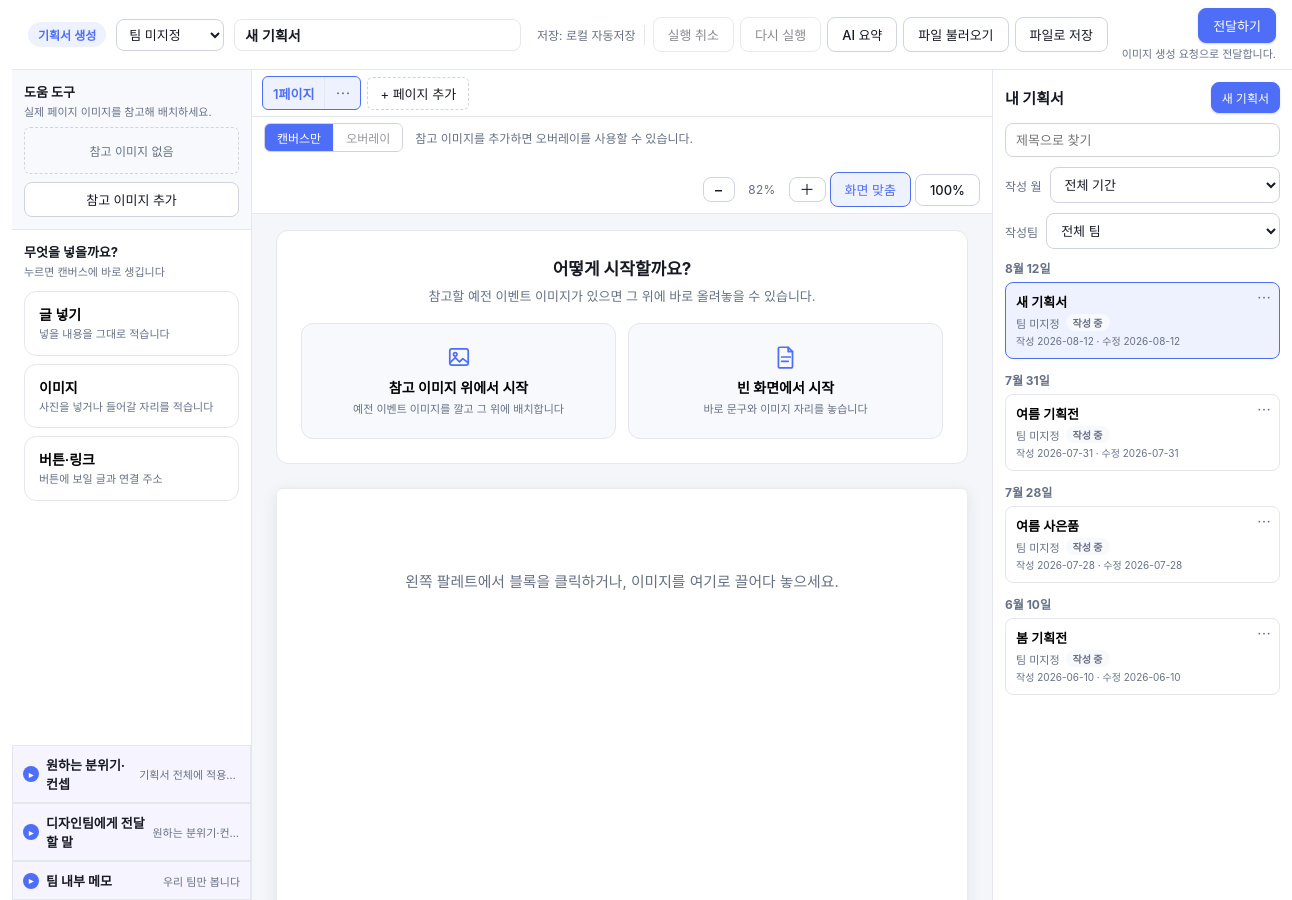
Scenario: §6 작성 월로 찾기 › narrows by month and title together, and says so when nothing matches
Check: the text "여름 기획전" is shown, box [1016, 404, 1079, 423]
Check: the heading "7월 31일" is shown, box [1005, 373, 1050, 388]
Select "2026년 7월" in the dropdown labelled "작성 월" at (1165, 185), box [1050, 167, 1280, 203]
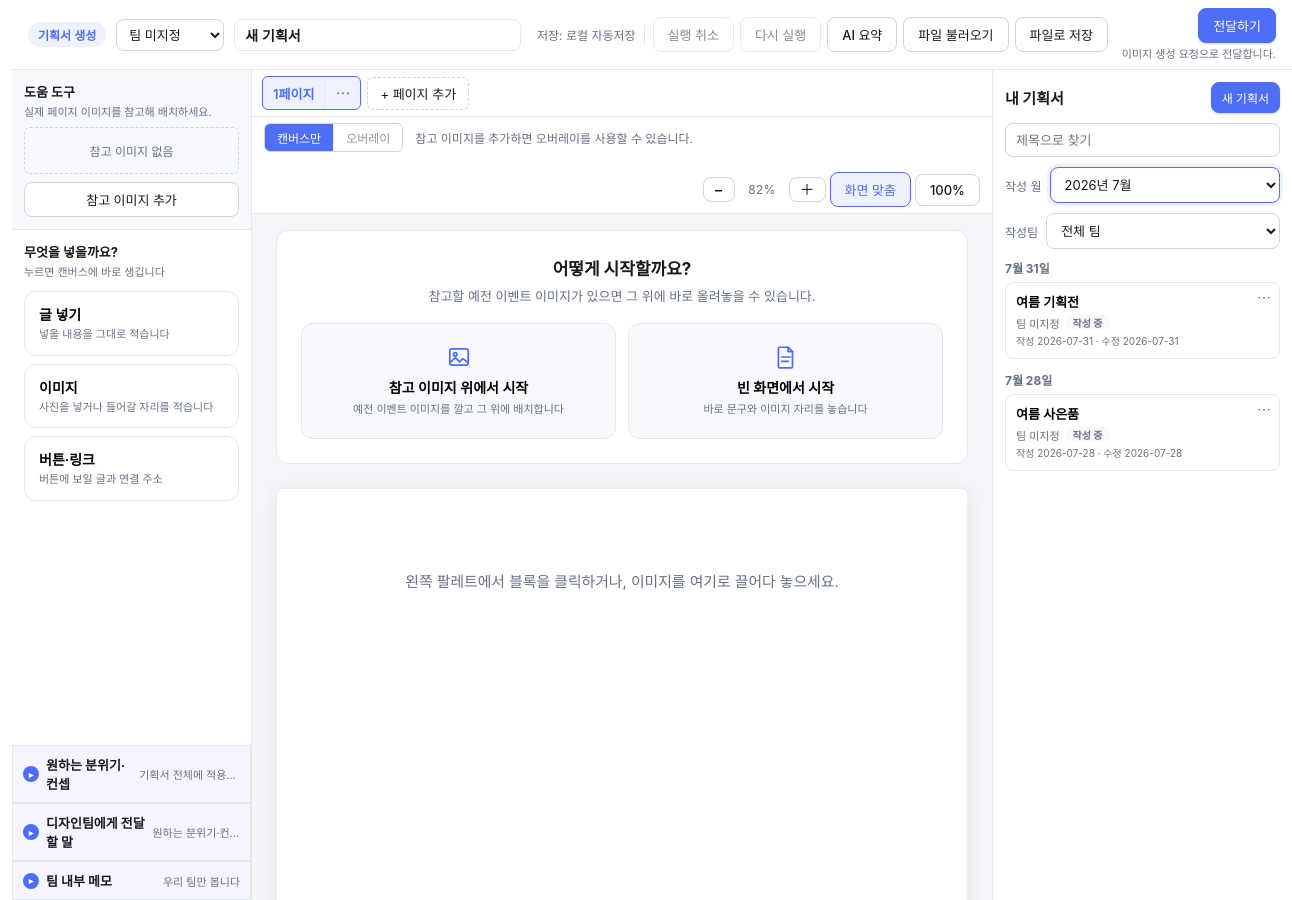
Check: the text "여름 기획전" is shown, box [1016, 292, 1079, 311]
Check: the button "봄 기획전" is gone
Type "사은품" into the search field named "기획서 제목 검색" at (1142, 140), box [1005, 123, 1280, 157]
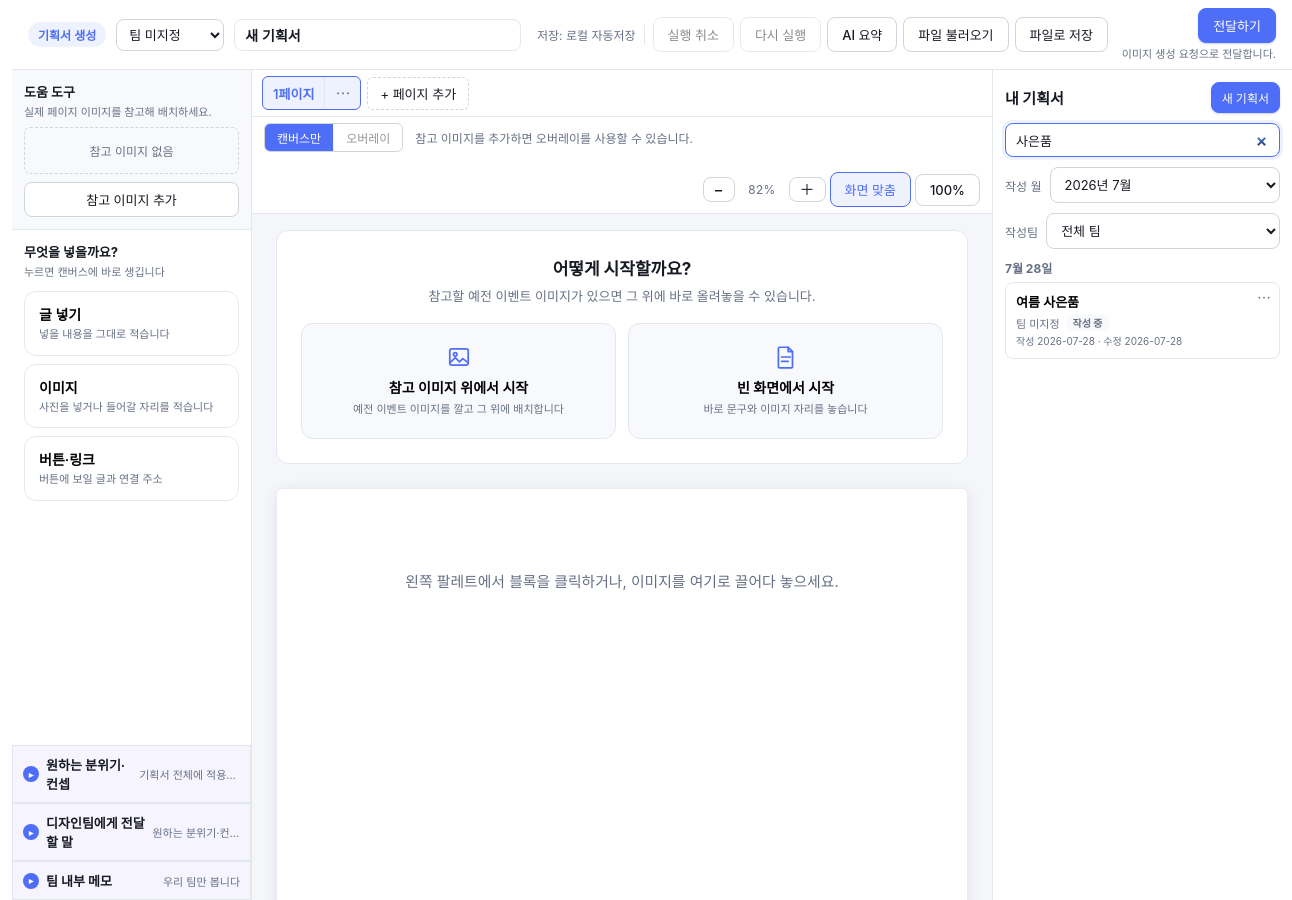
Check: the text "여름 사은품" is shown, box [1016, 292, 1079, 311]
Check: the button "여름 기획전" is gone
# A month with no match says which kind of emptiness it is.
Select "2026년 6월" in the dropdown labelled "작성 월" at (1165, 185), box [1050, 167, 1280, 203]
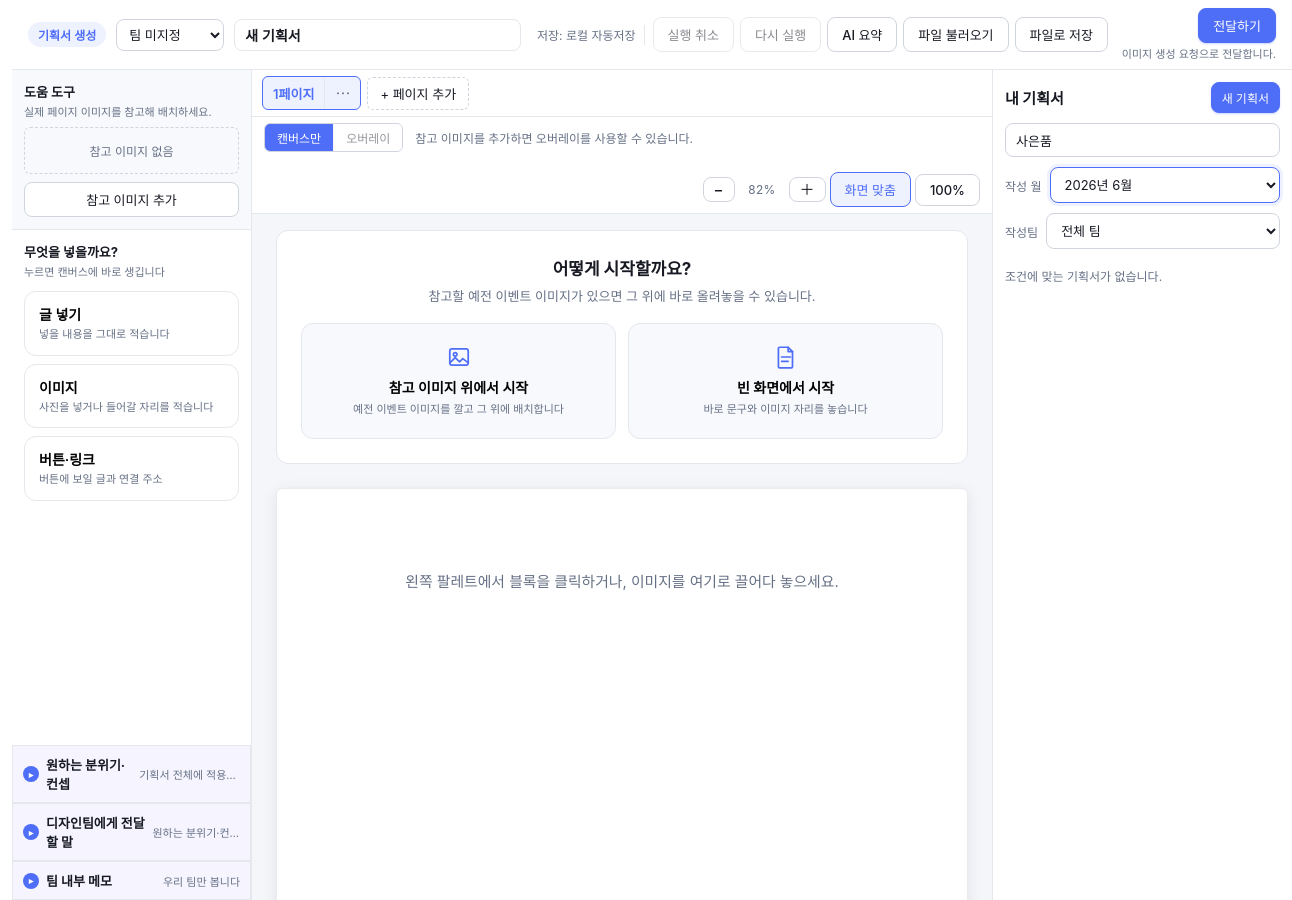
Check: the text "조건에 맞는 기획서가 없습니다." is shown, box [1005, 269, 1162, 284]
